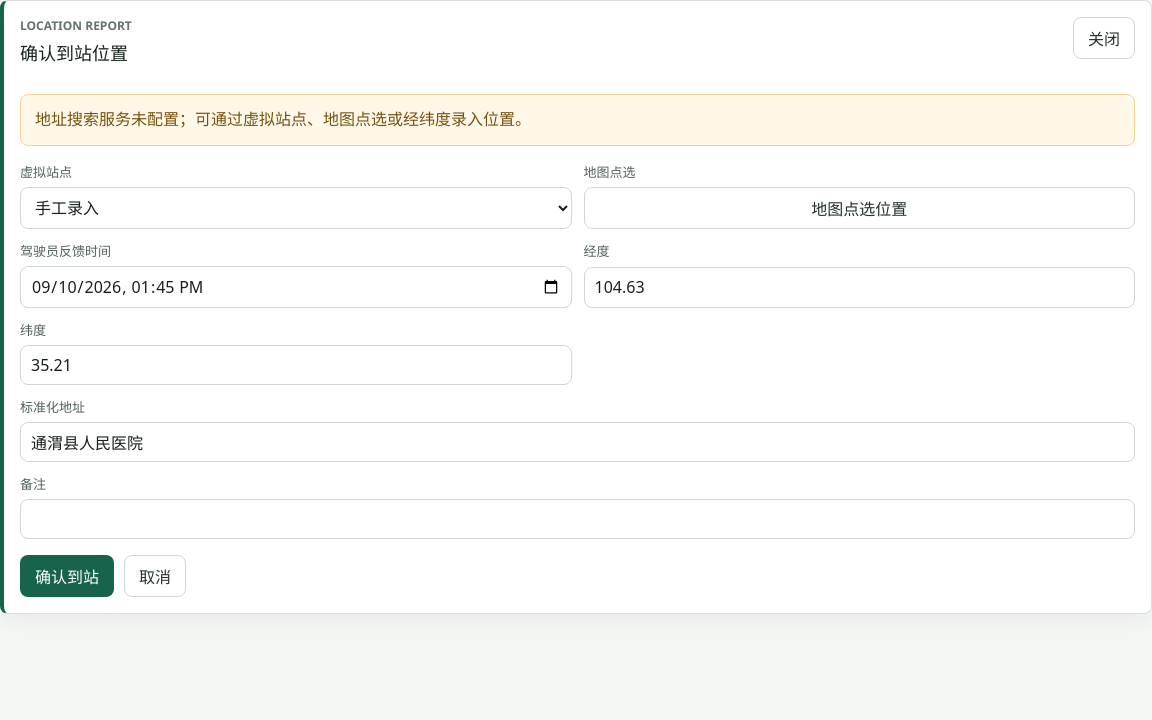
Test case: LocationReportPanel › requires driver reported time
This screenshot has width=1152, height=720.
Clear the field labelled "驾驶员反馈时间": point(296, 287) [20, 266, 572, 308]
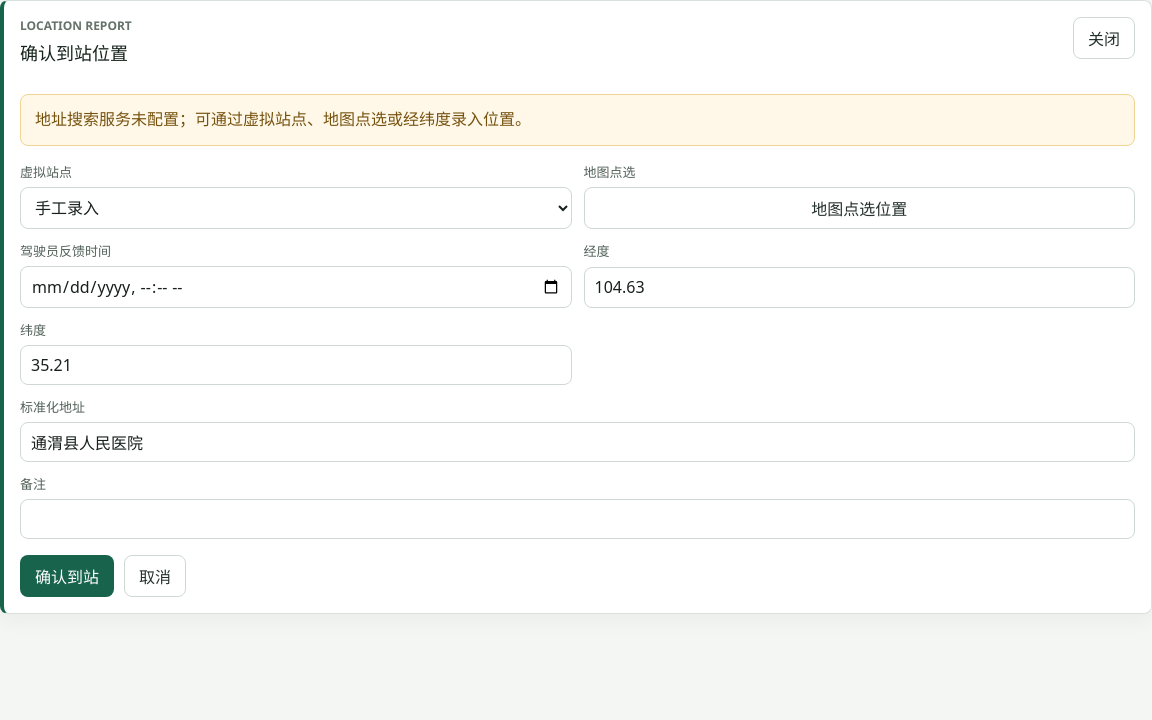
Click the button "确认到站": point(67, 576) [20, 555, 114, 597]
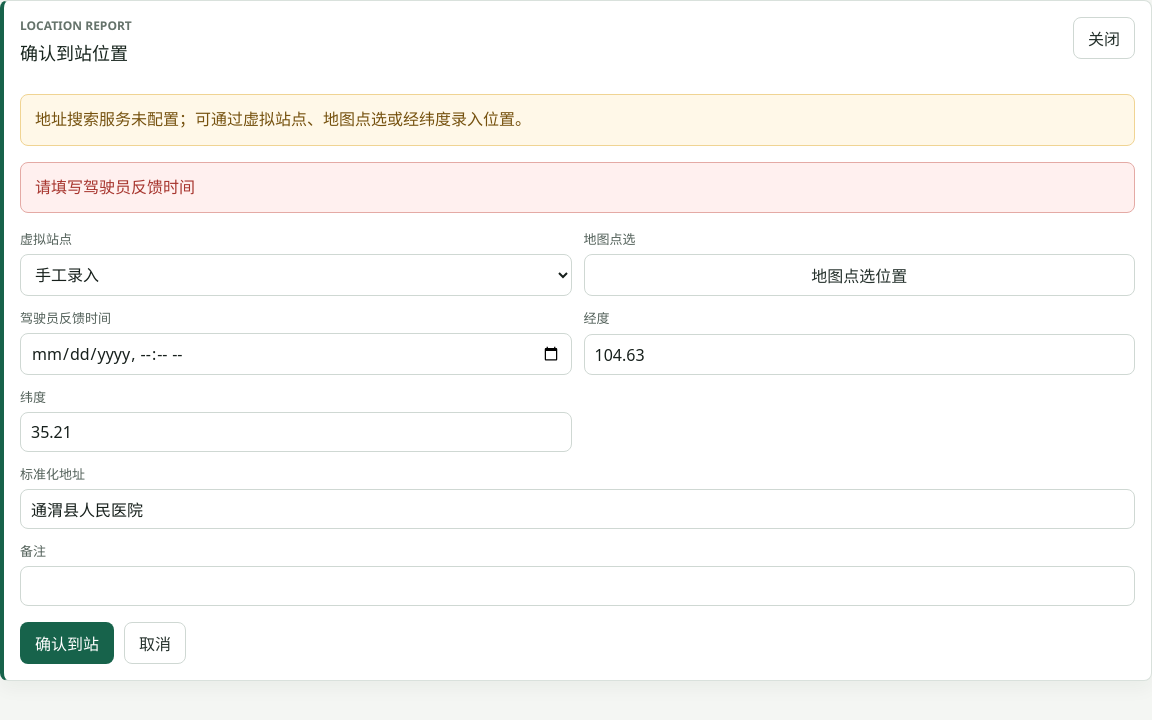
Expected: the text "请填写驾驶员反馈时间" is shown, [20, 162, 1135, 213]
